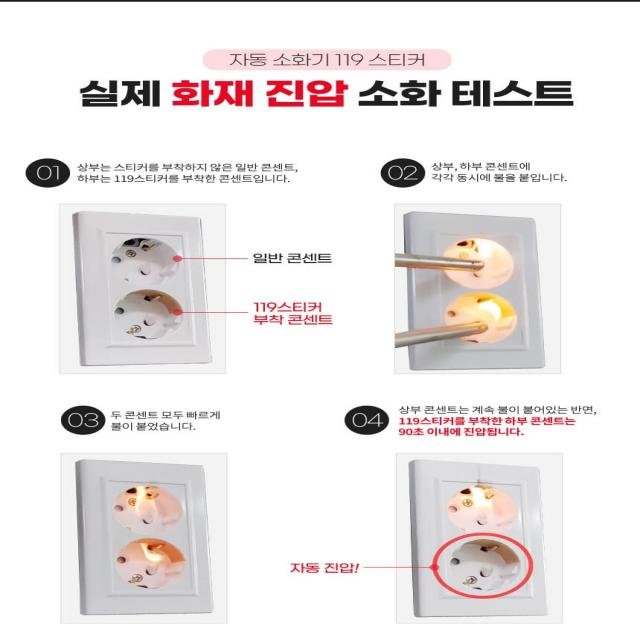typeb: (48, 202, 242, 377)
